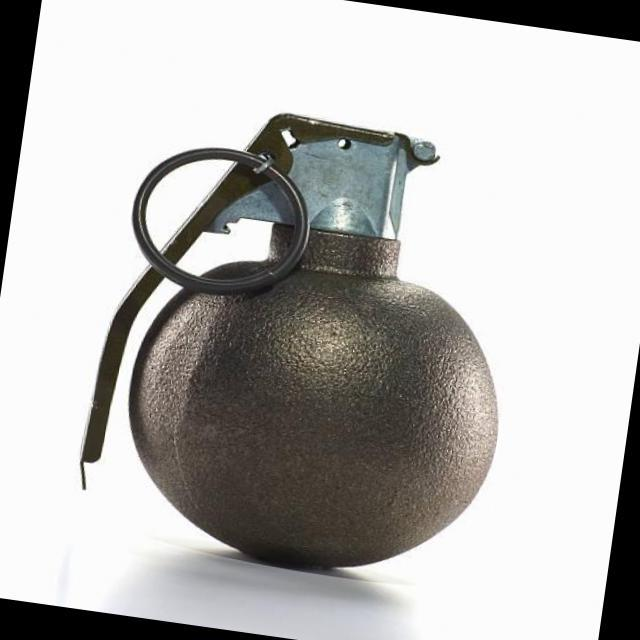grenade: (36, 86, 560, 594)
